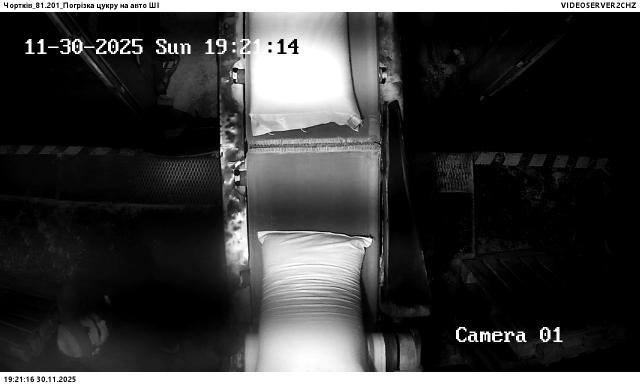bag: (258, 231, 374, 372), (250, 12, 362, 135)
